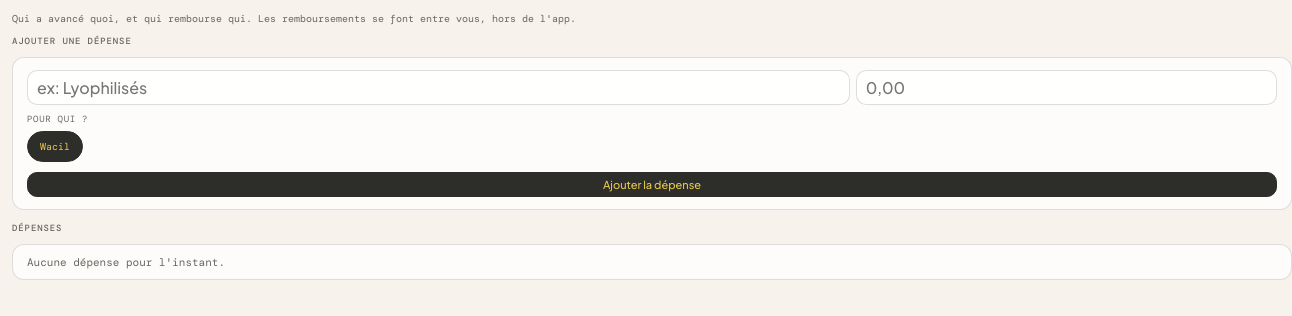
Test: ExpensesTab › prévient quand l'enregistrement échoue, sans effacer la saisie
The image size is (1292, 316).
Type "Essence" into the field named "Libellé de la dépense" at (438, 88), box [27,70,850,105]
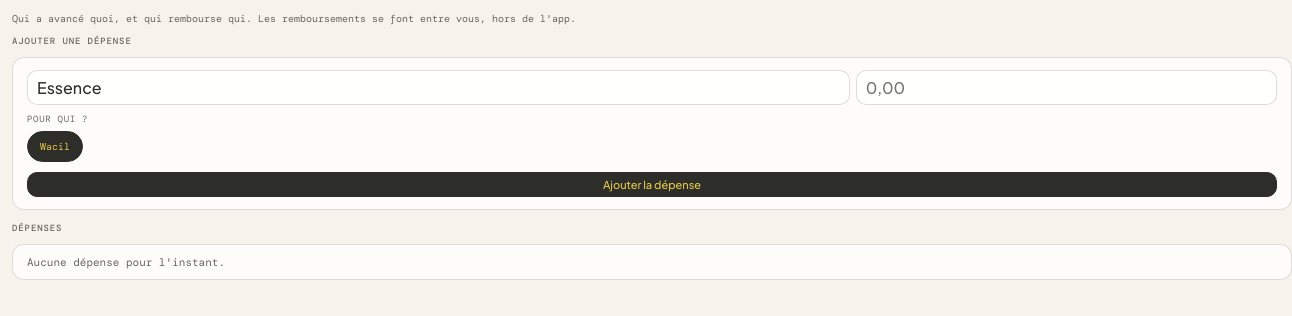
Type "42" into the field named "Montant en euros" at (1066, 88), box [856,70,1277,105]
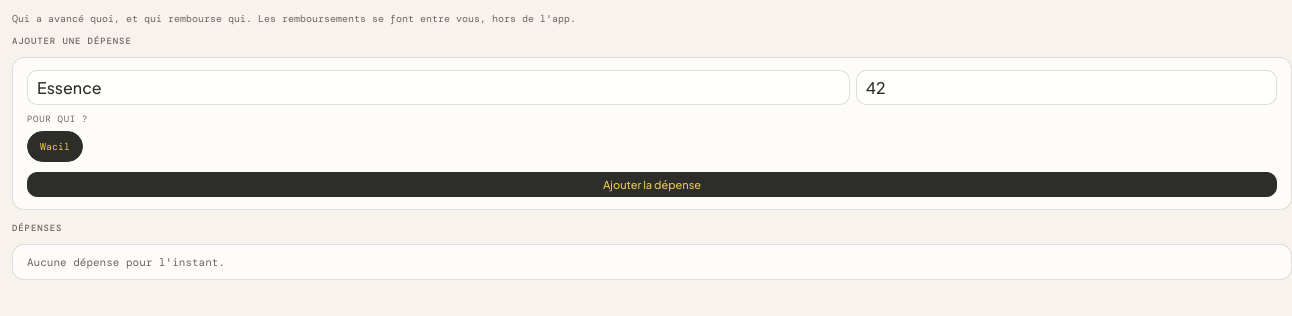
Click the button "Ajouter la dépense" at (652, 184), box [27,172,1277,197]
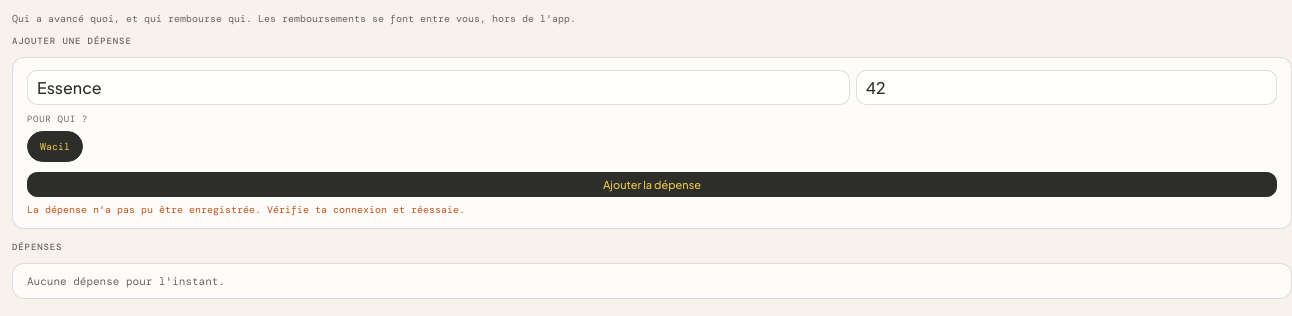
Result: the message shows "pas pu être enregistrée" at [27,203,465,216]
